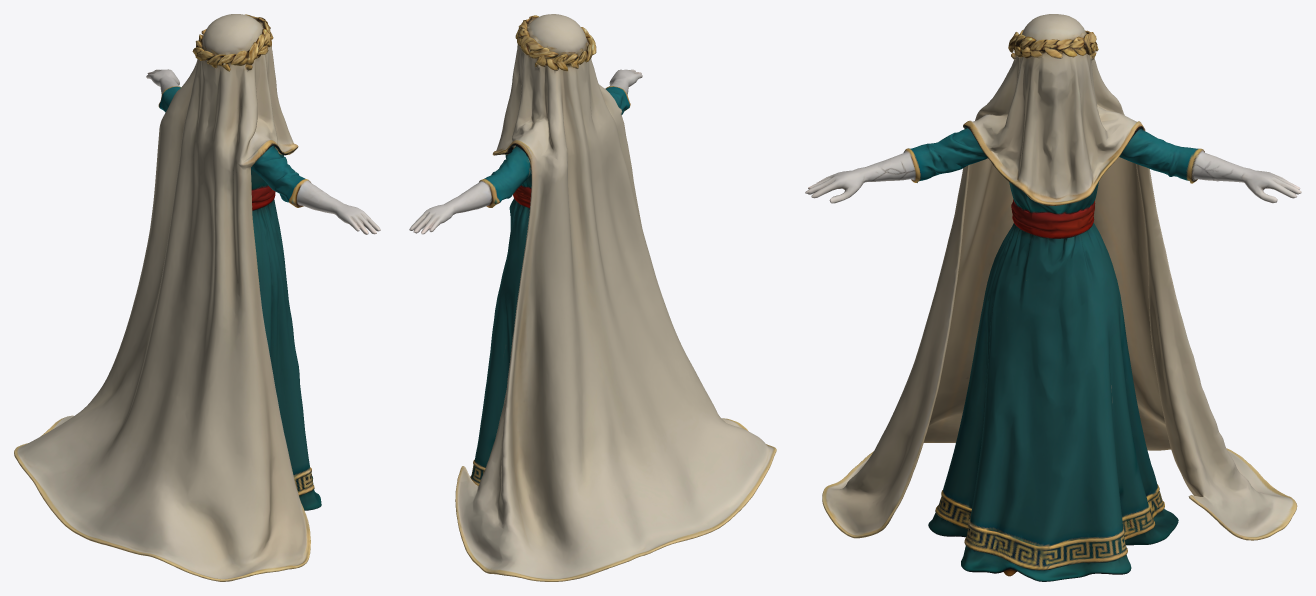
The model's file is veil4.glb.
3 renders of one model, left to right at view 1: azimuth 30°, elevation 25°; view 2: azimuth 150°, elevation 25°; view 3: azimuth 270°, elevation 25°, orthographic. The views are drawn at different scales.
Parts seen in each view (by area): view 1: tripo_node_b1a30d82-acbb-4658-aab6-396fa4871106; view 2: tripo_node_b1a30d82-acbb-4658-aab6-396fa4871106; view 3: tripo_node_b1a30d82-acbb-4658-aab6-396fa4871106.
Boxes of the visible parts, x1=… form: tripo_node_b1a30d82-acbb-4658-aab6-396fa4871106: x1=14, y1=14, x2=380, y2=581; tripo_node_b1a30d82-acbb-4658-aab6-396fa4871106: x1=409, y1=14, x2=776, y2=581; tripo_node_b1a30d82-acbb-4658-aab6-396fa4871106: x1=805, y1=14, x2=1301, y2=581.
Size of the model in its own units: 0.5225 by 1 by 0.8465.
1 material, 1 textured.
